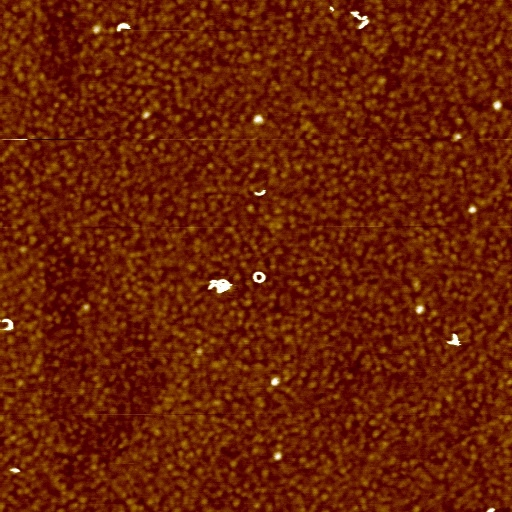-1: (209, 274, 234, 295), (347, 9, 372, 21), (356, 17, 374, 31), (467, 203, 479, 215), (253, 114, 265, 124), (493, 100, 503, 112), (270, 376, 282, 386), (273, 452, 285, 462), (7, 465, 20, 474), (415, 304, 426, 314), (488, 506, 499, 512)
1/4: (115, 21, 132, 33), (251, 187, 268, 198)
2/4: (447, 331, 461, 347)
3/4: (0, 314, 15, 334)
4/4: (251, 270, 269, 284)
